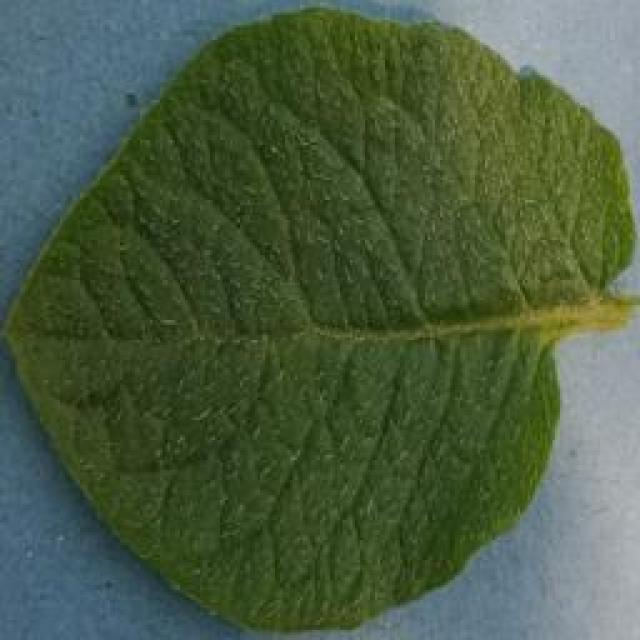Potato_Healthy: (6, 7, 632, 631)
